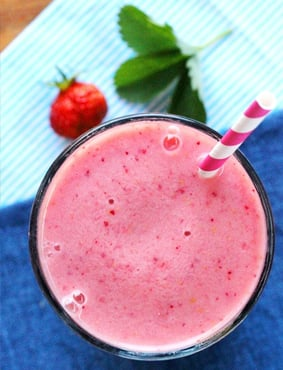salad: (198, 89, 277, 178)
steak: (49, 81, 109, 139)
sushi: (28, 113, 279, 367)
